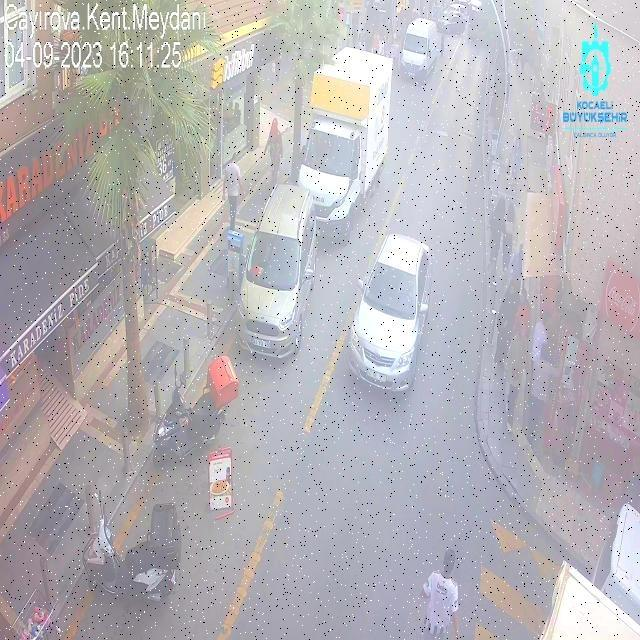Car: (339, 223, 444, 407), (225, 185, 320, 372)
Cycle: (70, 499, 202, 610), (144, 368, 242, 459)
Truck: (285, 35, 403, 228)
Van: (397, 16, 448, 87)
